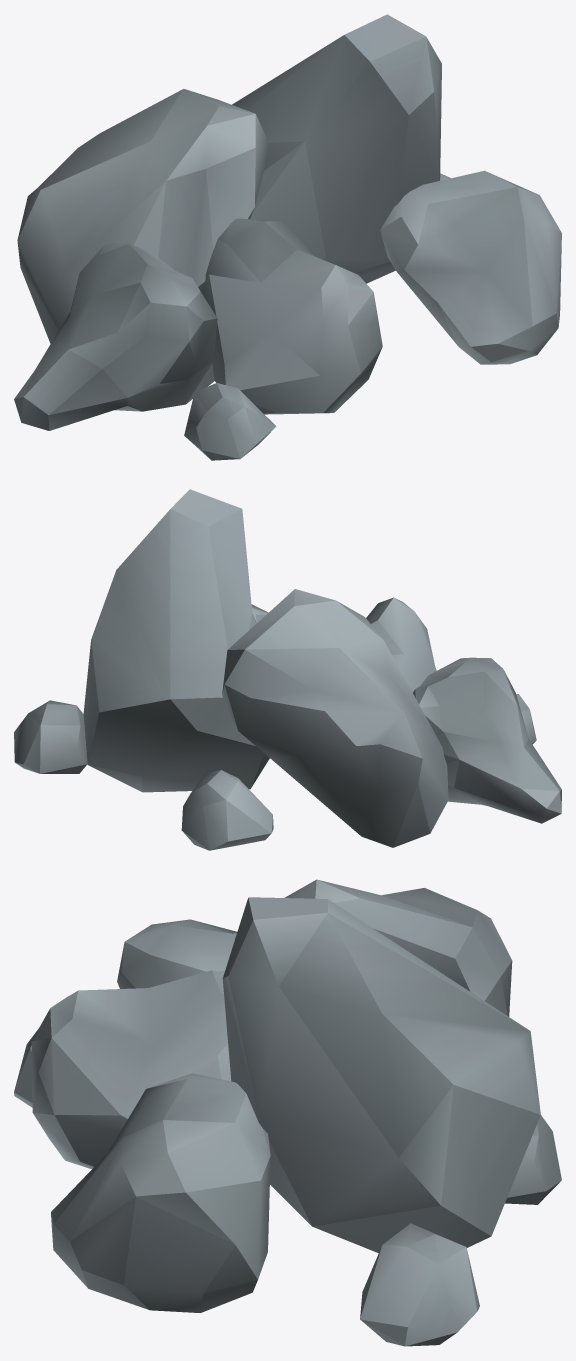
Rendered from stone-chunks-small.glb.
3 views of the same model, one above another, from view 1: azimuth 30°, elevation 25°; view 2: azimuth 150°, elevation 25°; view 3: azimuth 270°, elevation 25° (orthographic). The views are drawn at different scales.
Parts seen in each view (by area): view 1: Stone_Chunks_Small; view 2: Stone_Chunks_Small; view 3: Stone_Chunks_Small.
Boxes of the visible parts, box(x1,y1,x2,y2) form: Stone_Chunks_Small: box(14, 14, 561, 460); Stone_Chunks_Small: box(14, 489, 561, 850); Stone_Chunks_Small: box(14, 879, 561, 1346).
Size of the model in its own units: 1.12 by 0.5792 by 0.7861.
1 material, 1 textured.
